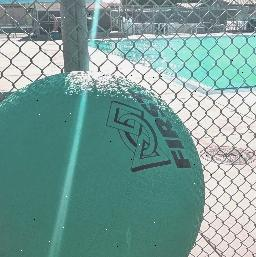algae: (0, 68, 207, 257)
